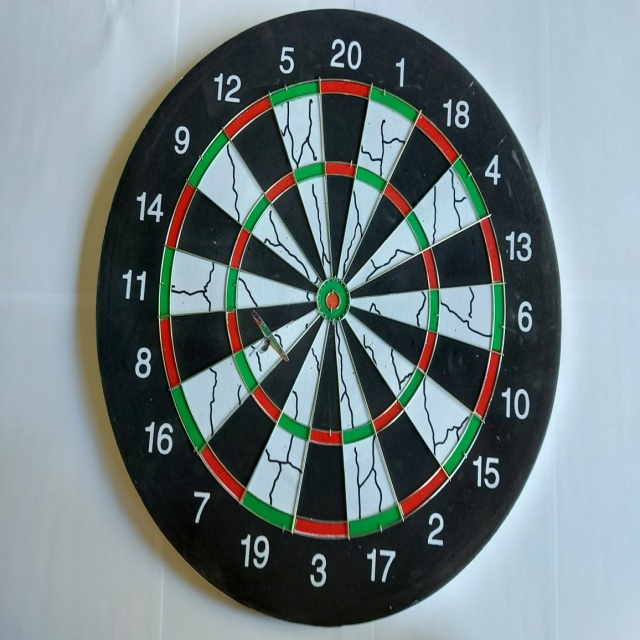Dart: (241, 306, 296, 372)
